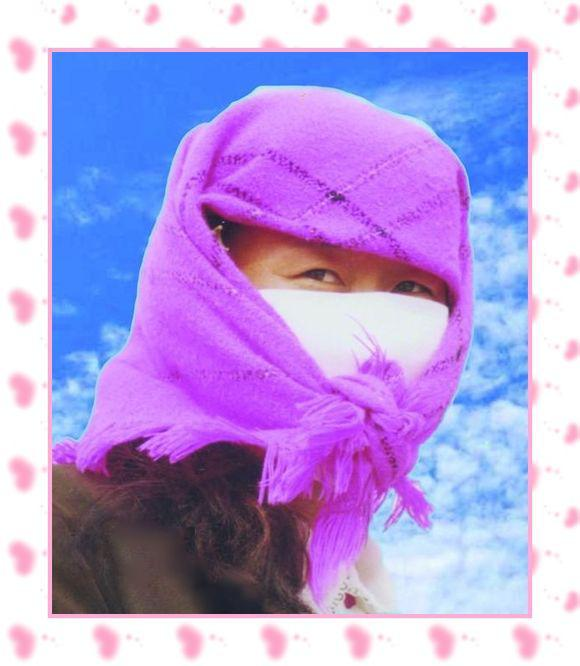OK: (236, 219, 467, 450)
